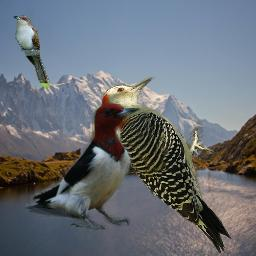Cuckoo: (13, 15, 50, 88)
Woodpecker: (97, 77, 233, 254), (25, 103, 143, 230)
